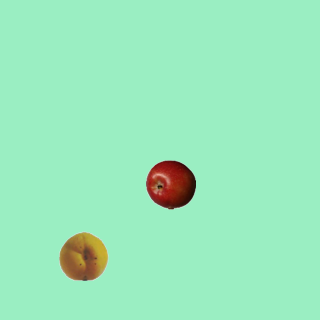Apple Braeburn: (145, 159, 195, 209)
Peach 2: (58, 230, 108, 280)
